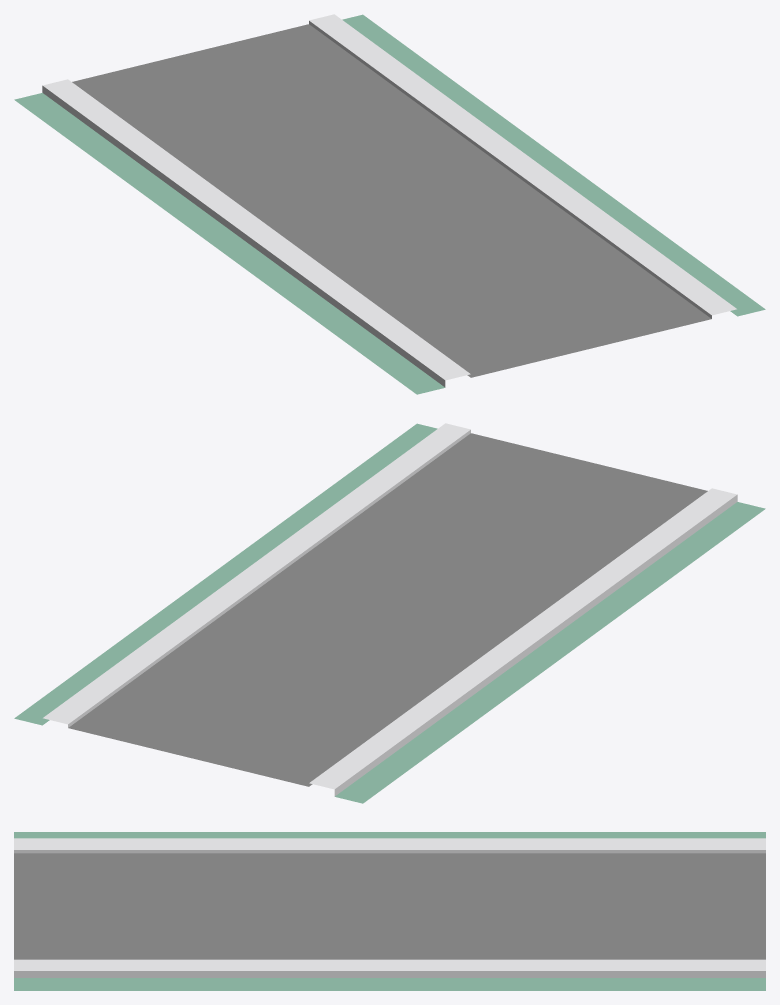
Rendered from roadStraightLong.glb.
The picture shows the model from 3 angles, top to bottom: view 1: azimuth 30°, elevation 25°; view 2: azimuth 150°, elevation 25°; view 3: azimuth 270°, elevation 25°; orthographic projection. The views are drawn at different scales.
Parts seen in each view (by area): view 1: roadStraightLong(Clone); view 2: roadStraightLong(Clone); view 3: roadStraightLong(Clone).
Boxes of the visible parts, bbox=[...] form: roadStraightLong(Clone): bbox=[14, 14, 765, 394]; roadStraightLong(Clone): bbox=[14, 423, 765, 803]; roadStraightLong(Clone): bbox=[14, 832, 765, 990].
Bounding box in the file's own units: 1 × 0.02 × 2.
1 material, 1 textured.
